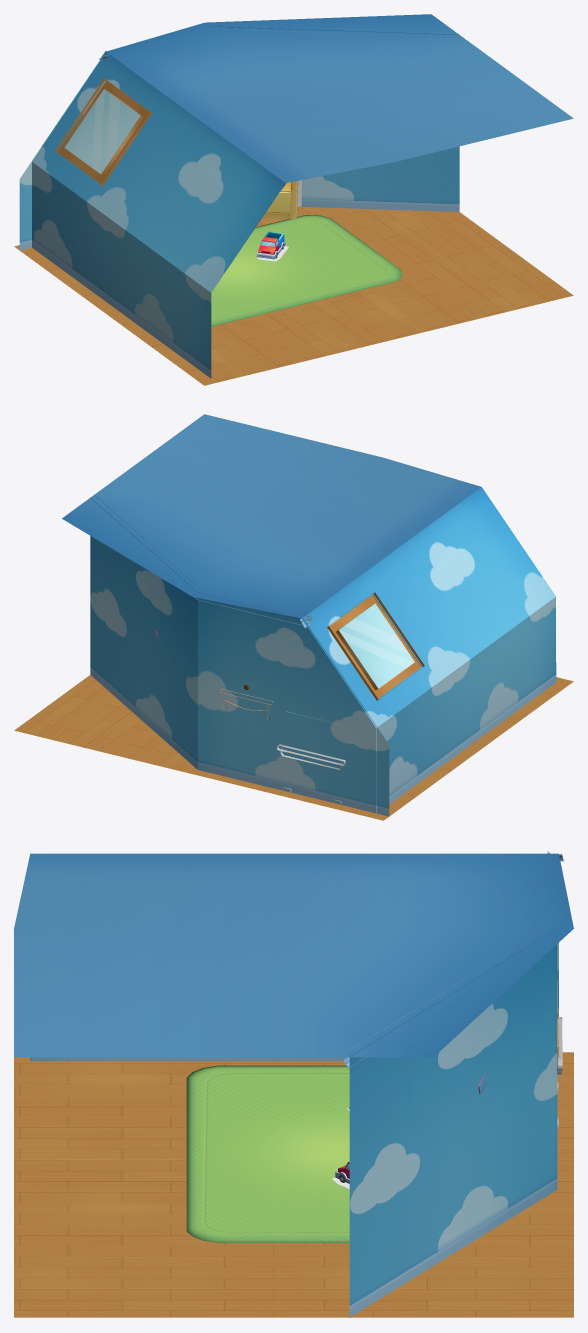
Rendered from model_play_room.fbx.
3 views of the same model, one above another, from view 1: azimuth 30°, elevation 25°; view 2: azimuth 150°, elevation 25°; view 3: azimuth 270°, elevation 25° (orthographic). The views are drawn at different scales.
Parts seen in each view (by area): view 1: model_play_room_wall, model_play_room_floor, model_play_room_carpet, model_play_room_wardrobe, model_play_room_car; view 2: model_play_room_wall, model_play_room_floor; view 3: model_play_room_wall, model_play_room_floor, model_play_room_carpet.
Boxes of the visible parts, box(x1,y1,x2,y2) form: model_play_room_wall: box(19, 14, 573, 378); model_play_room_floor: box(14, 206, 573, 385); model_play_room_carpet: box(211, 215, 402, 326); model_play_room_wardrobe: box(262, 180, 301, 219); model_play_room_car: box(256, 231, 288, 261); model_play_room_wall: box(62, 414, 556, 816); model_play_room_floor: box(14, 675, 573, 820); model_play_room_wall: box(14, 851, 573, 1318); model_play_room_floor: box(14, 1052, 573, 1317); model_play_room_carpet: box(186, 1065, 349, 1242).
Bounding box in the file's own units: 1485 × 685 × 1321.
